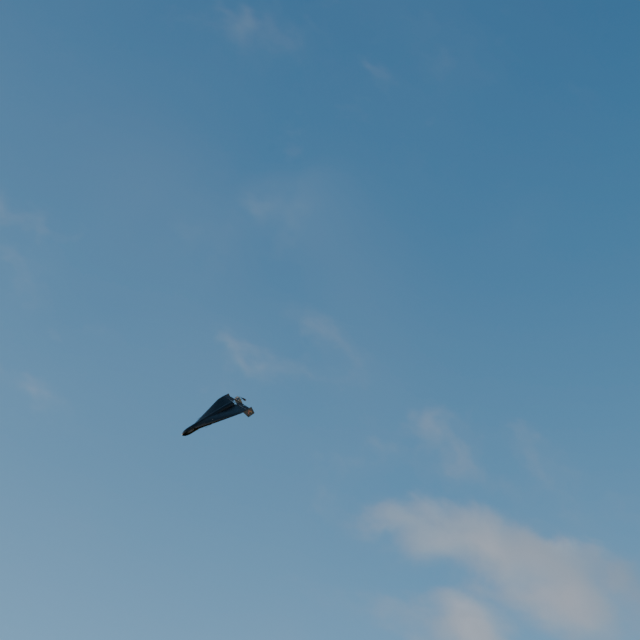shahed: (182, 393, 255, 436)
